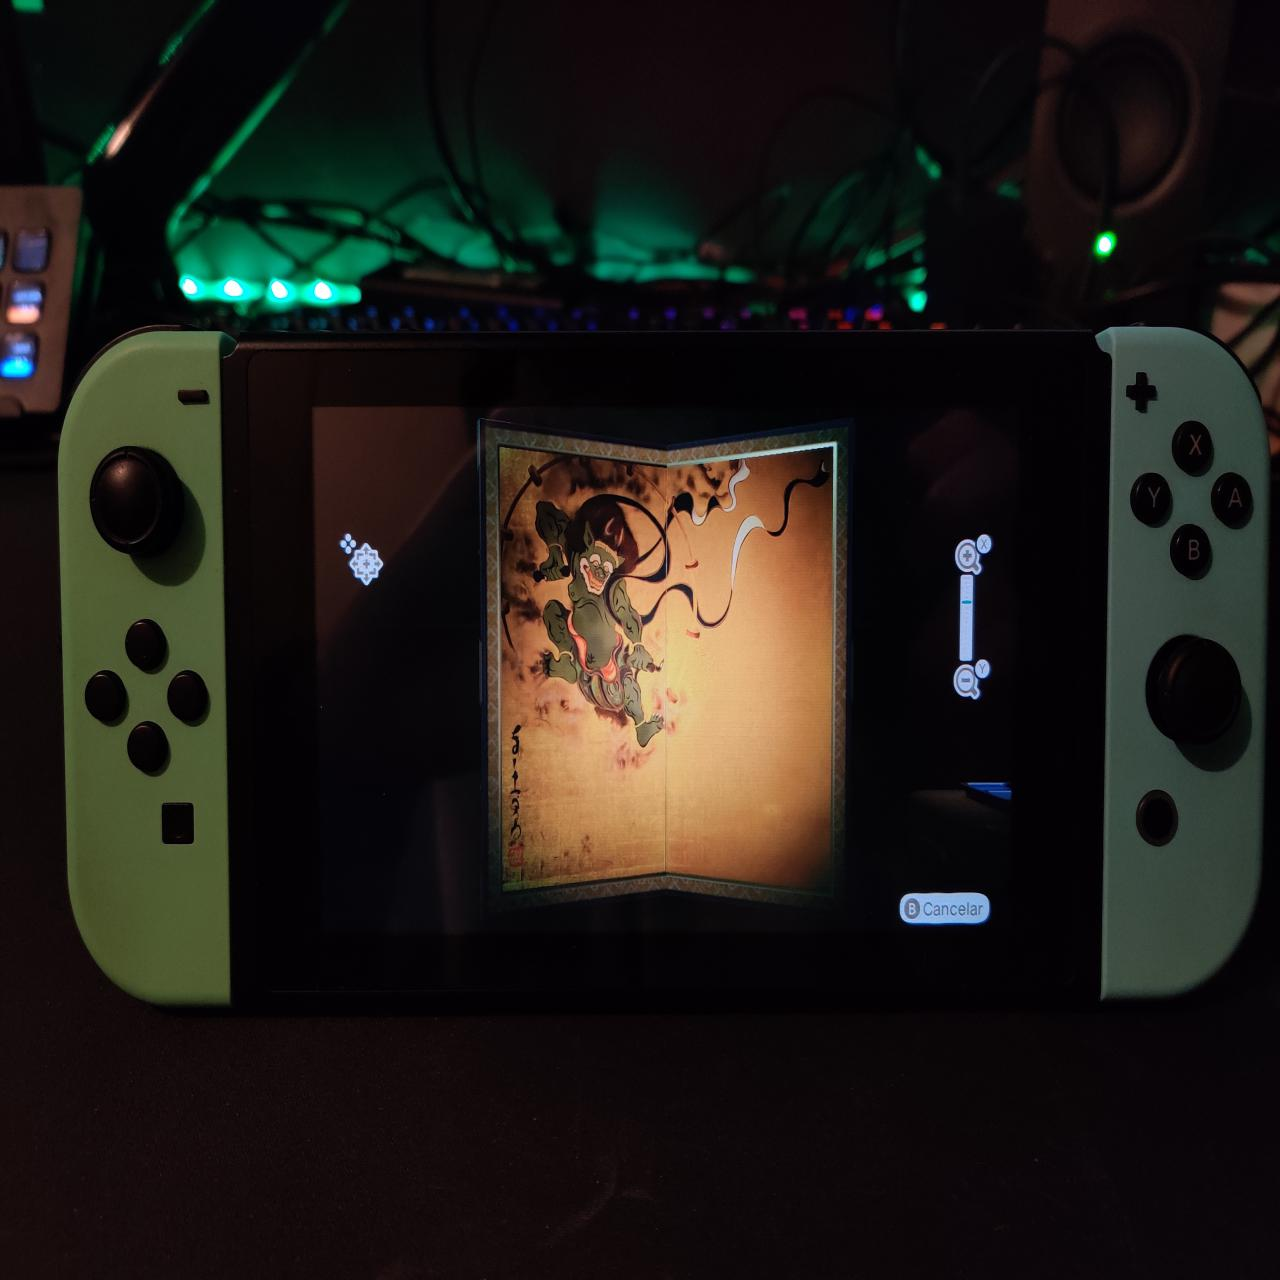RaijinFake: (483, 422, 849, 911)
